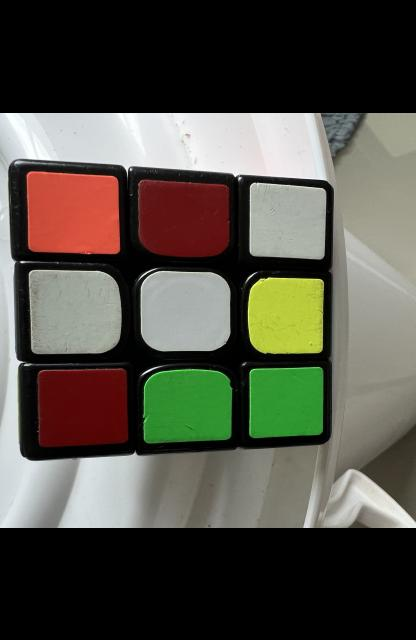Green: (143, 369, 232, 442), (249, 366, 323, 437)
Orange: (27, 170, 121, 253)
Red: (38, 368, 128, 447), (138, 179, 229, 256)
White: (28, 269, 122, 354), (140, 270, 230, 350), (249, 181, 327, 258)
Yellow: (248, 277, 324, 352)
